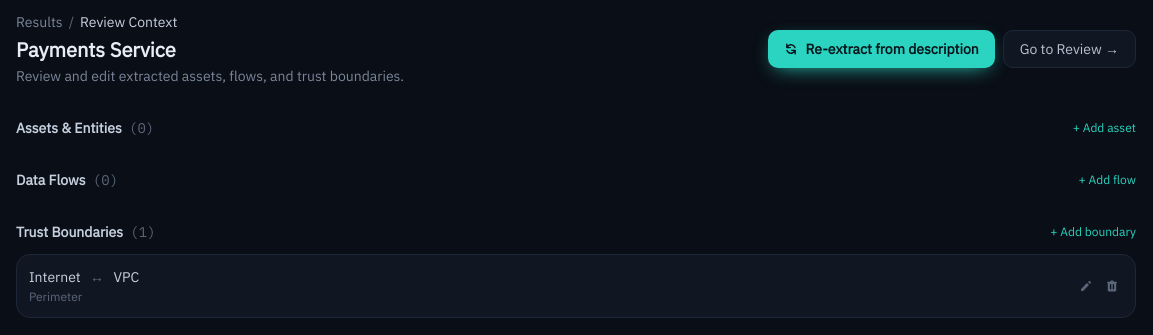
Test: ReviewContext — trust boundaries CRUD › deletes a trust boundary
Expected: the text "Perimeter" is shown, [29,289,82,304]
Click the button named "Delete trust boundary between Internet and VPC" at (1112, 286), box [1101,275,1123,297]
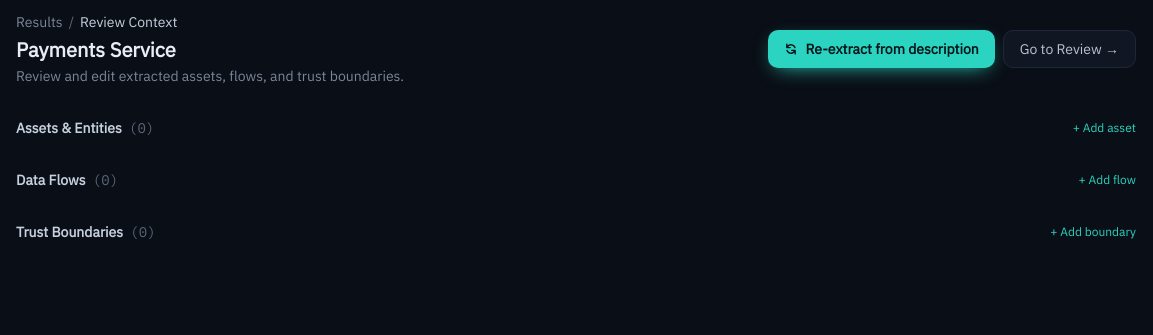
Expected: the text "Perimeter" is gone
